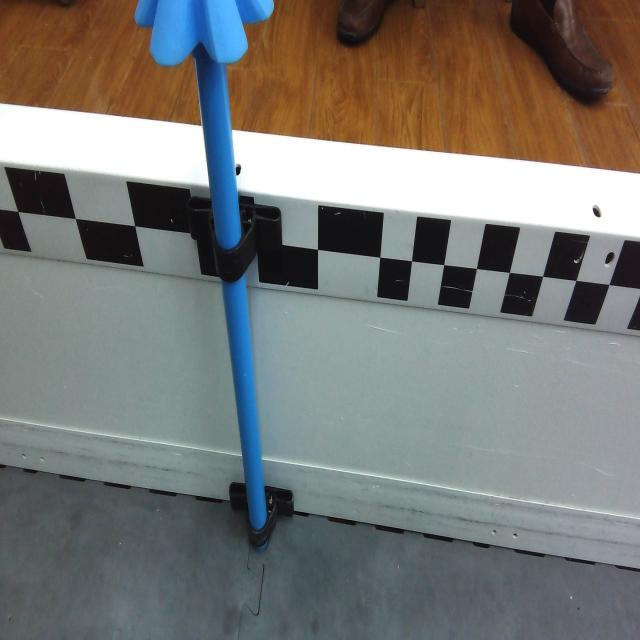zblue-Stake-Head: (136, 1, 274, 72)
